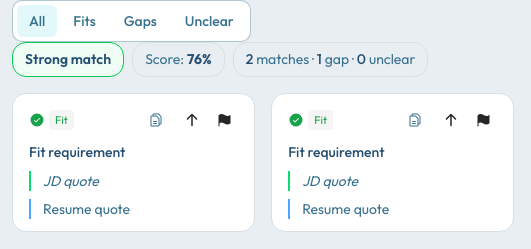
MatchTabContent › shows explicit empty-message when verdict filter hides every item
Click the tab "Gaps".
click(140, 21)  # box [112,5,169,37]
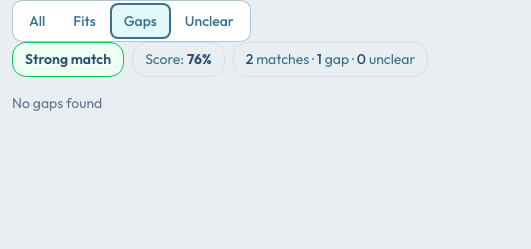
Now the text "No gaps found" is shown, box [12,94,102,112]
